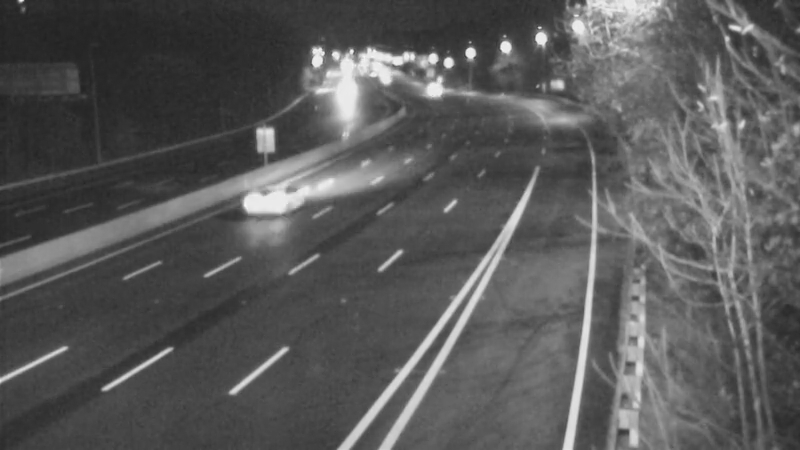vehicle: (224, 152, 304, 232), (413, 62, 463, 112)
